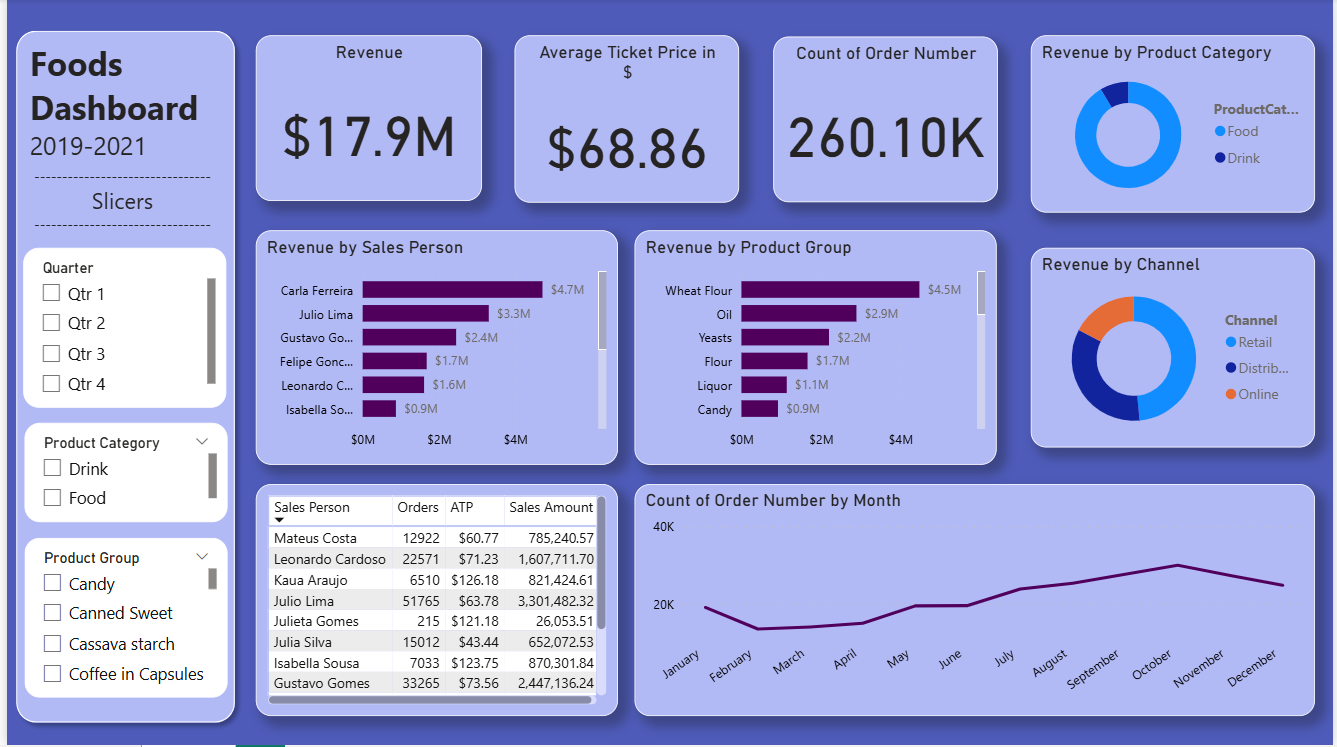

This screenshot's page, from the dashboard's own definition file:
{"tool":"powerbi","page":{"name":"Page 1","canvas":[1280,720],"ordinal":0},"visuals":[{"type":"card","title":"Revenue","fields":{"Values":["Sales Table.Revenue"]},"box":[239.8,34.9,218.1,160.2],"z":0},{"type":"card","title":"Average Ticket Price in $","fields":{"Values":["Sales Table.ATP"]},"box":[490,34.9,216.9,161.4],"z":1000},{"type":"card","title":"Count of Order Number","fields":{"Values":["CountNonNull(Sales Table.OrderNumber)"]},"box":[739,36.1,216.9,160.2],"z":2000},{"type":"donutChart","fields":{"Y":["Sales Table.Revenue"],"Category":["Sales Table.Channel"]},"box":[988,239.8,274.7,192.8],"z":3000},{"type":"donutChart","title":"Revenue by Product Category","fields":{"Y":["Sales Table.Revenue"],"Category":["Product.ProductCategory"]},"box":[988,34.9,274.7,171.1],"z":4000},{"type":"lineChart","title":"Count of Order Number by Month","fields":{"Category":["Sales Table.OrderDate.Variation.Date Hierarchy.Month"],"Y":["CountNonNull(Sales Table.OrderNumber)"]},"box":[606,468.7,656.6,224.1],"z":5000},{"type":"shape","box":[0,21.7,228.9,685.5],"z":5500},{"type":"barChart","title":"Revenue by Product Group","fields":{"Category":["Product.ProductGroup"],"Y":["Sales Table.Revenue"]},"box":[606,222.9,349.4,226.5],"z":6000},{"type":"barChart","title":"Revenue by Sales Person","fields":{"Y":["Sales Table.Revenue"],"Category":["Sales Table.Salesperson"]},"box":[239.8,222.9,349.4,226.5],"z":7000},{"type":"tableEx","fields":{"Values":["Sales Table.Salesperson","CountNonNull(Sales Table.OrderNumber)","Sales Table.ATP","Sum(Sales Table.SalesAmount)"]},"box":[239.8,468.7,349.4,224.1],"z":9000},{"type":"textbox","box":[16.9,34.9,196.4,151.8],"z":13500},{"type":"slicer","fields":{"Values":["Sales Table.OrderDate.Variation.Date Hierarchy.Quarter"]},"box":[15.7,239.8,196.4,154.2],"z":13501},{"type":"slicer","fields":{"Values":["Product.ProductCategory"]},"box":[16.9,409,196.4,96.4],"z":13502},{"type":"slicer","fields":{"Values":["Product.ProductGroup"]},"box":[16.9,520.5,196.4,154.2],"z":13503},{"type":"textbox","box":[10.8,156.6,201.2,78.3],"z":13504}]}

Visuals, with their boxes in screenshot pixels (x1, y1, x2, y2), scaled from the page's 1280x720 canvas onto the 1337x747 screenshot:
"Revenue" card: detection(250, 36, 478, 202)
"Average Ticket Price in $" card: detection(512, 36, 738, 204)
"Count of Order Number" card: detection(772, 37, 998, 204)
donutChart - Sales Table.Revenue x Sales Table.Channel: detection(1032, 249, 1319, 449)
"Revenue by Product Category" donutChart: detection(1032, 36, 1319, 214)
"Count of Order Number by Month" lineChart: detection(633, 486, 1319, 719)
shape: detection(0, 23, 239, 734)
"Revenue by Product Group" barChart: detection(633, 231, 998, 466)
"Revenue by Sales Person" barChart: detection(250, 231, 615, 466)
tableEx - Sales Table.Salesperson x CountNonNull(Sales Table.OrderNumber): detection(250, 486, 615, 719)
textbox: detection(18, 36, 223, 194)
slicer - Sales Table.OrderDate.Variation.Date Hierarchy.Quarter: detection(16, 249, 222, 409)
slicer - Product.ProductCategory: detection(18, 424, 223, 524)
slicer - Product.ProductGroup: detection(18, 540, 223, 700)
textbox: detection(11, 162, 221, 244)
